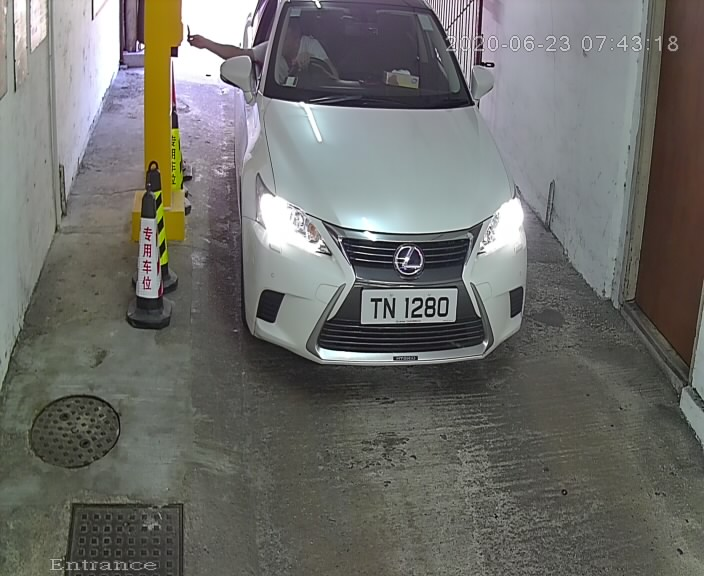privatecar: (202, 2, 543, 390)
